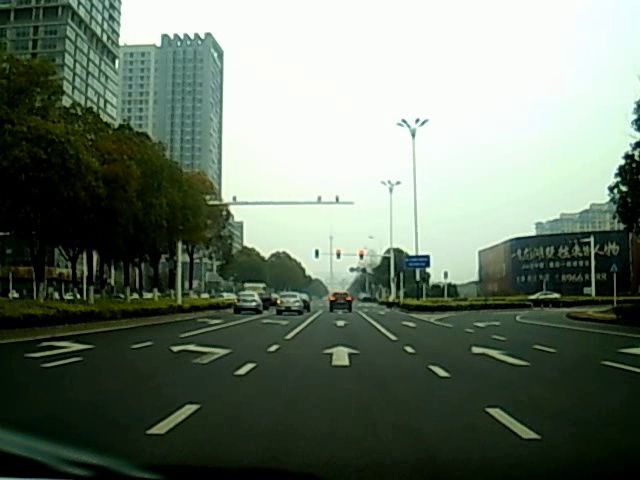Traffic_Light_stop: (357, 250, 365, 261), (335, 250, 341, 261)
